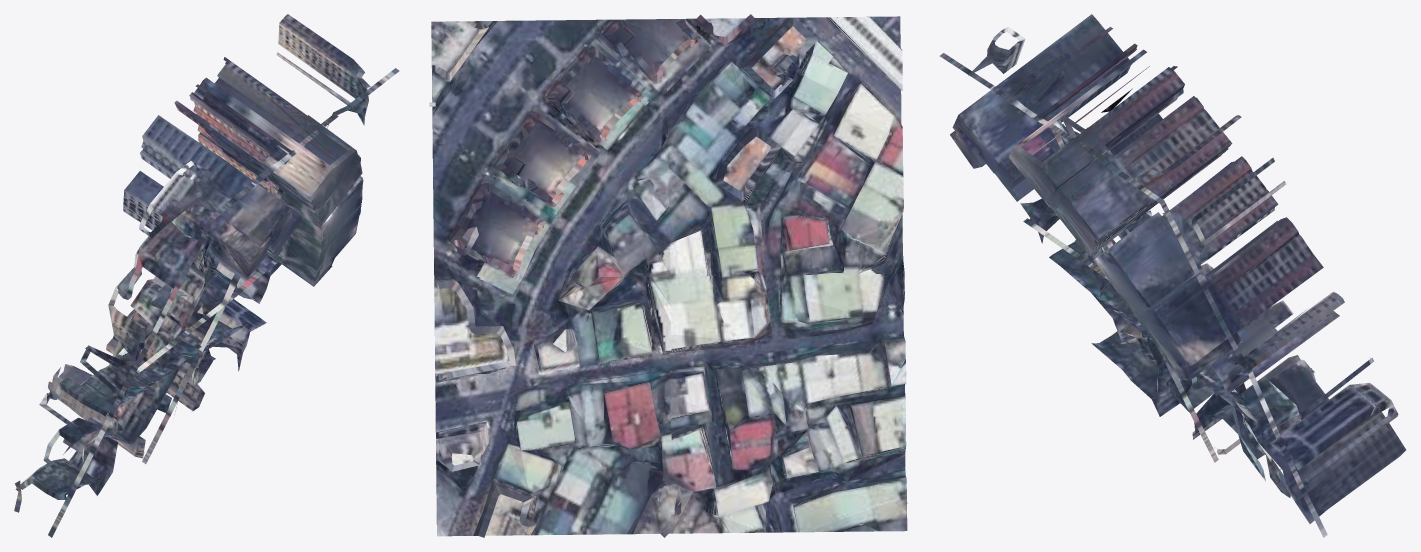
3 renders of one model, left to right at view 1: azimuth 30°, elevation 25°; view 2: azimuth 150°, elevation 25°; view 3: azimuth 270°, elevation 25°, orthographic. The views are drawn at different scales.
Bounding box in the file's own units: 159 × 158 × 155.
3 materials, 3 textured.
